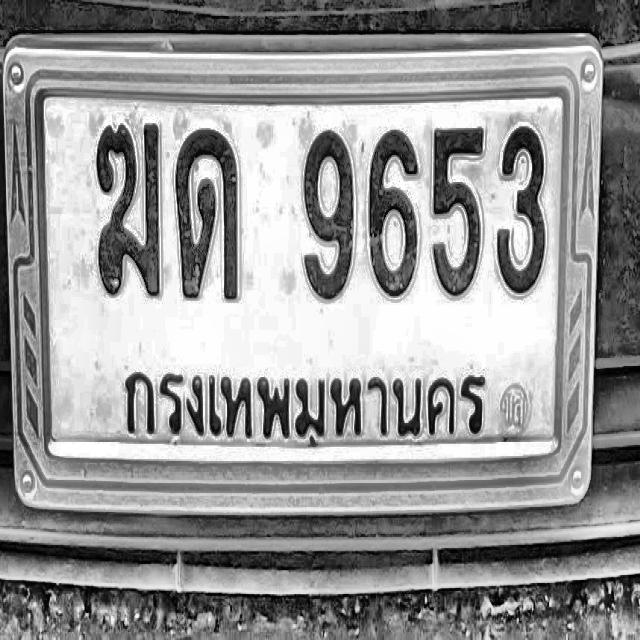license-plate: (0, 24, 598, 517)
